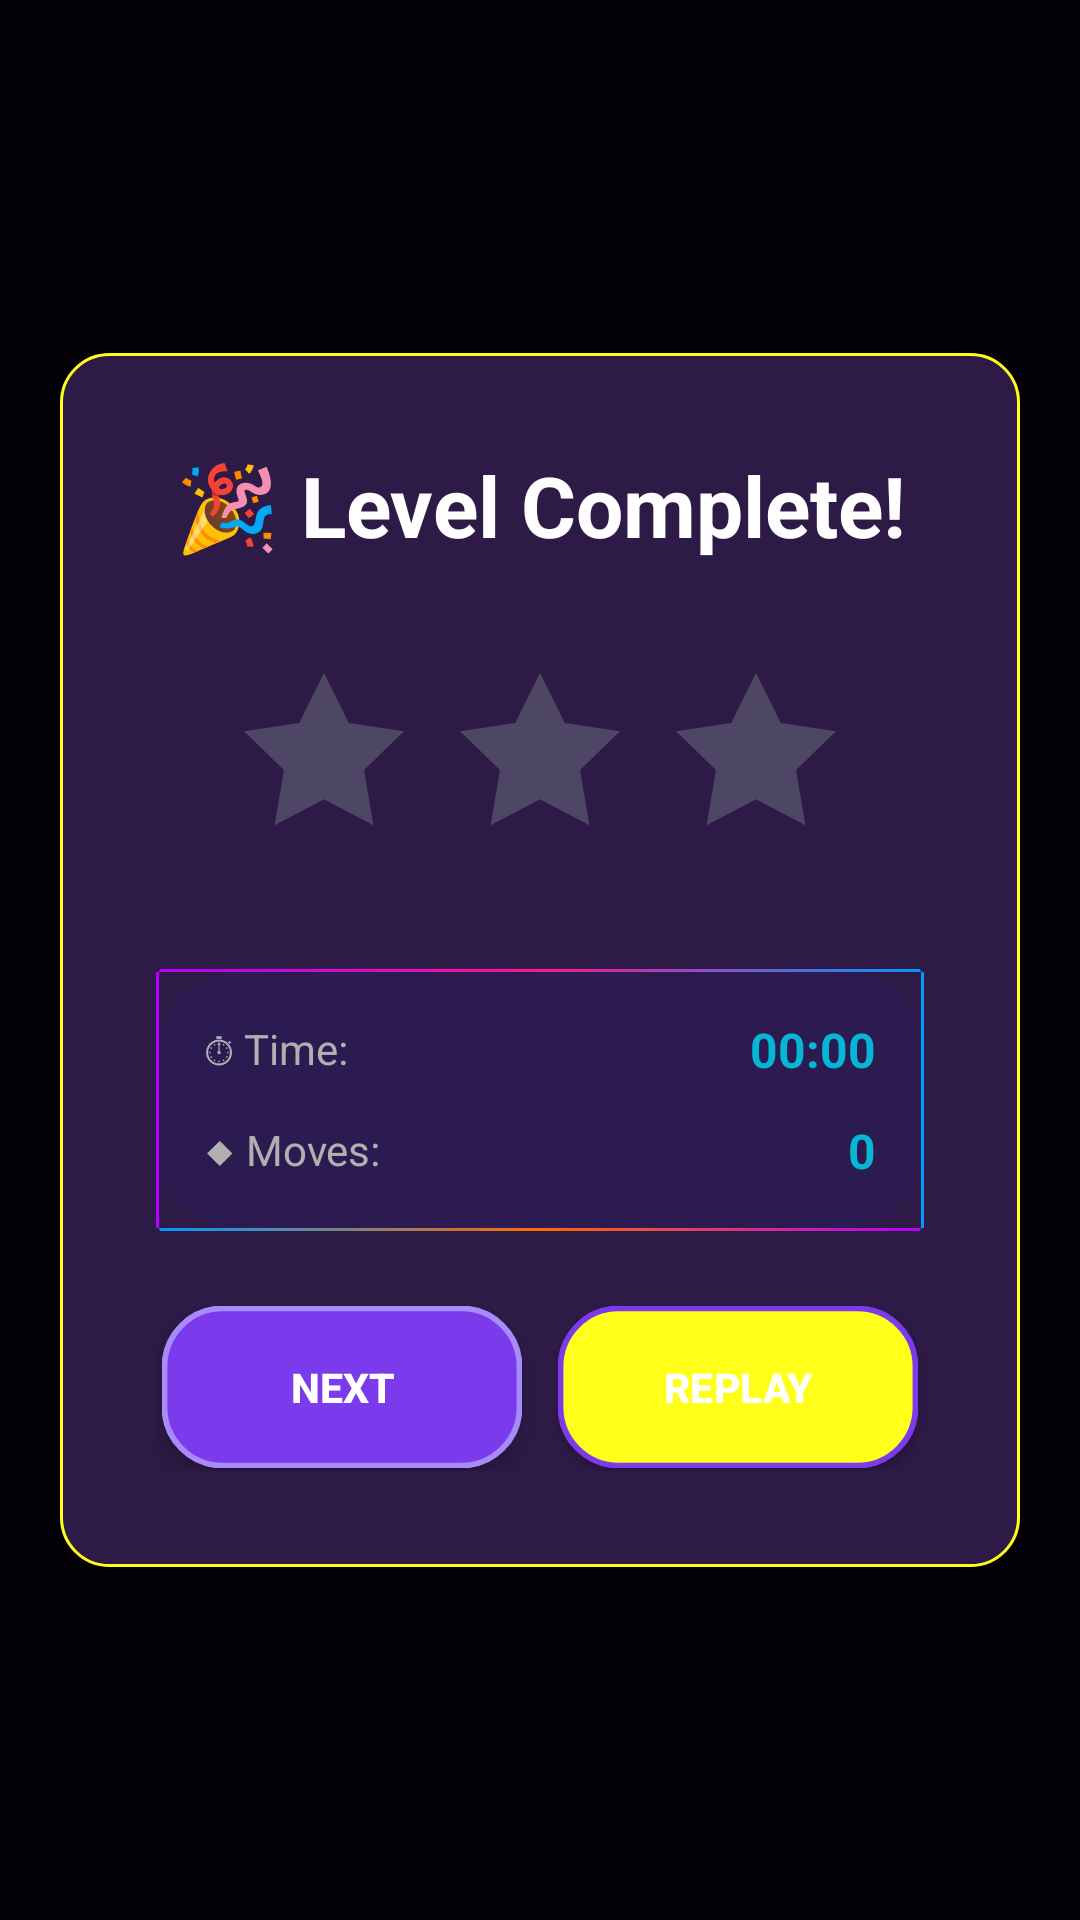

Where icons sit on this 1080*1920 app screen, as [x1=x1, y1=y1, x2=x2, y2=y2]:
star: [x1=245, y1=674, x2=403, y2=825], [x1=461, y1=674, x2=619, y2=825], [x1=677, y1=674, x2=835, y2=825]
